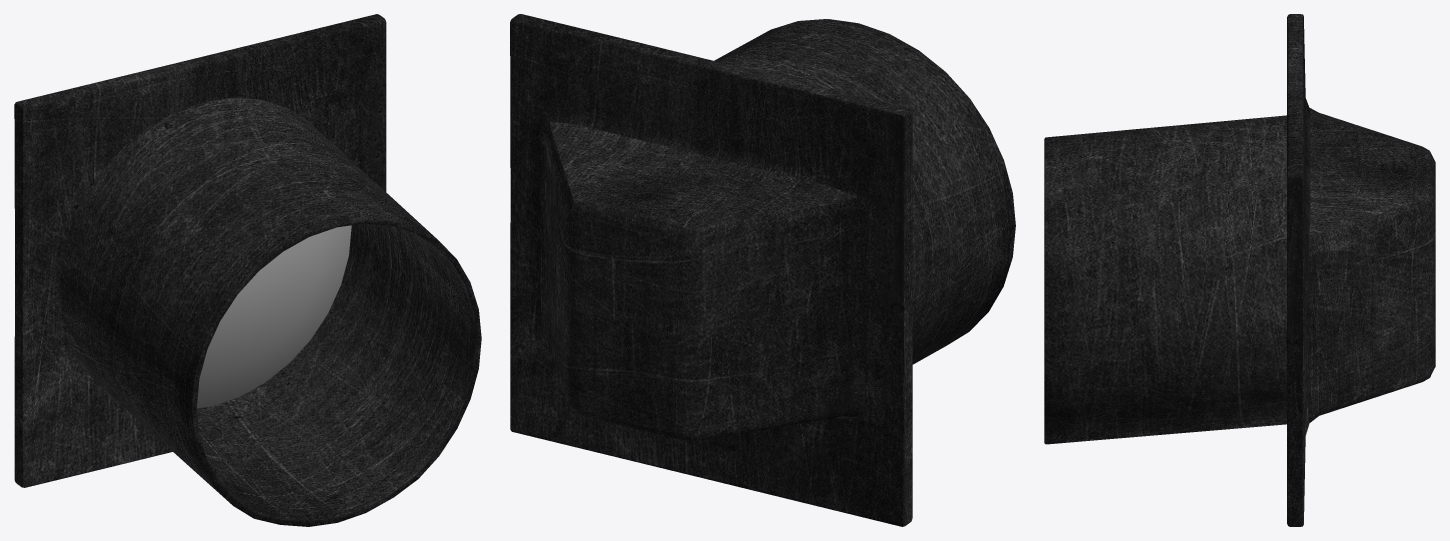
File: TrafficSignalVerticalFullConeBlack1.fbx
3 renders of one model, left to right at view 1: azimuth 30°, elevation 25°; view 2: azimuth 150°, elevation 25°; view 3: azimuth 270°, elevation 25°, orthographic. The views are drawn at different scales.
Visible parts, largest first — view 1: Casing, SignalLight0; view 2: Casing; view 3: Casing.
Boxes of the visible parts, bbox=[...] form: Casing: bbox=[14, 14, 481, 526]; SignalLight0: bbox=[196, 225, 351, 408]; Casing: bbox=[510, 14, 1015, 526]; Casing: bbox=[1044, 14, 1435, 526].
Size of the model in its own units: 0.4654 by 0.4654 by 0.4694.
